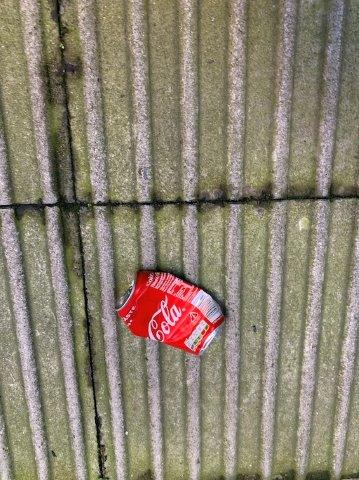kaleng: (117, 271, 224, 356)
